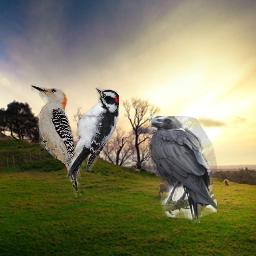Crow: (149, 116, 217, 223)
Woodpecker: (30, 80, 84, 198), (66, 87, 119, 181)
